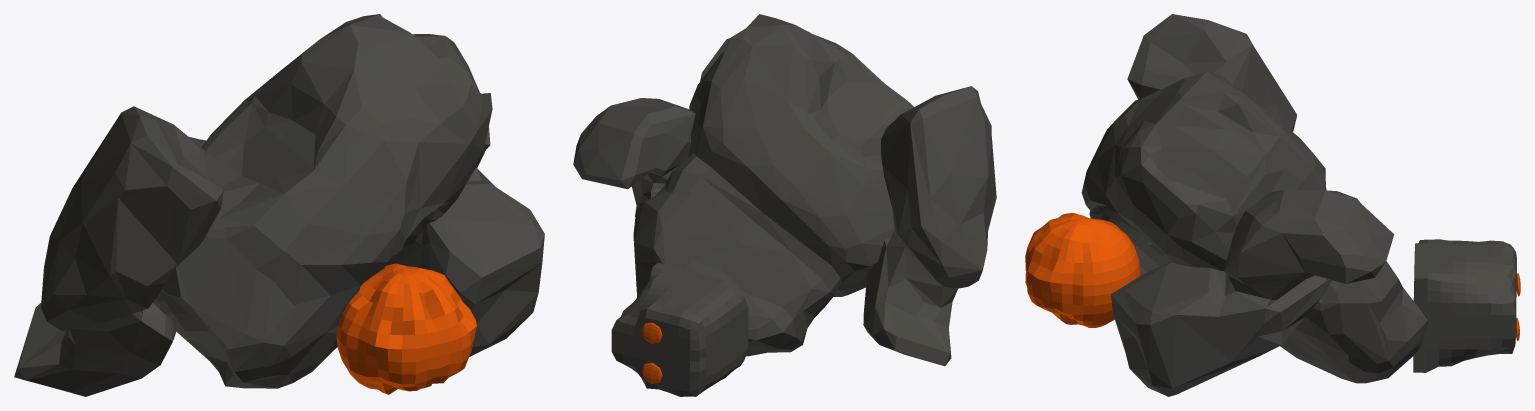
Rendered from SpawnRuantEpave.fbx.
3 renders of one model, left to right at view 1: azimuth 30°, elevation 25°; view 2: azimuth 150°, elevation 25°; view 3: azimuth 270°, elevation 25°, orthographic. The views are drawn at different scales.
Visible parts, largest first — view 1: torso.002, hands&leg.003, hands&leg.004, Sphere.001; view 2: torso.002, hands&leg.003, Cube.001, hands&leg.004; view 3: torso.002, hands&leg.004, Cube.001, Sphere.001, hands&leg.003.
Part boxes in pixels (x1,y1,x2,y2): torso.002: (153, 14, 492, 388); hands&leg.003: (14, 106, 223, 396); hands&leg.004: (385, 34, 544, 356); Sphere.001: (336, 263, 476, 394); torso.002: (633, 14, 913, 356); hands&leg.003: (863, 86, 996, 366); Cube.001: (611, 262, 748, 396); hands&leg.004: (573, 98, 695, 216); torso.002: (1081, 72, 1427, 383); hands&leg.004: (1111, 190, 1394, 396); Cube.001: (1413, 239, 1520, 372); Sphere.001: (1025, 213, 1140, 327); hands&leg.003: (1127, 14, 1296, 131).
Size of the model in its own units: 675 by 501 by 734.
